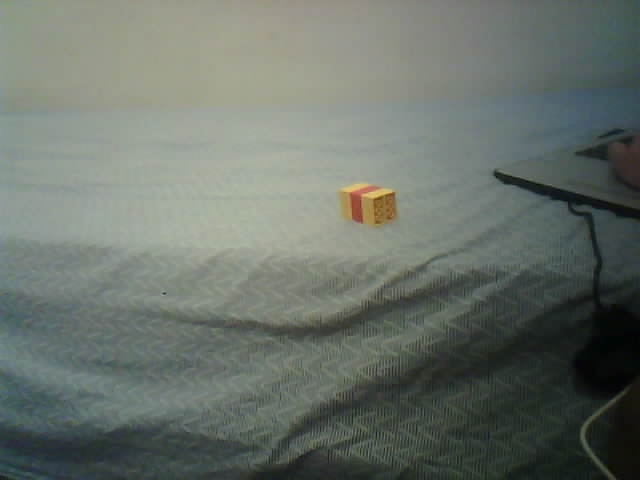lego: (337, 182, 397, 228)
